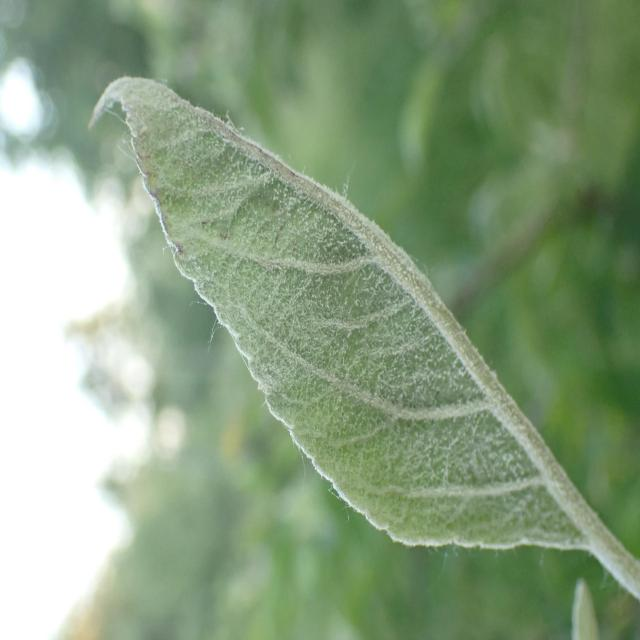Powdery_mildew: (87, 60, 608, 581)
